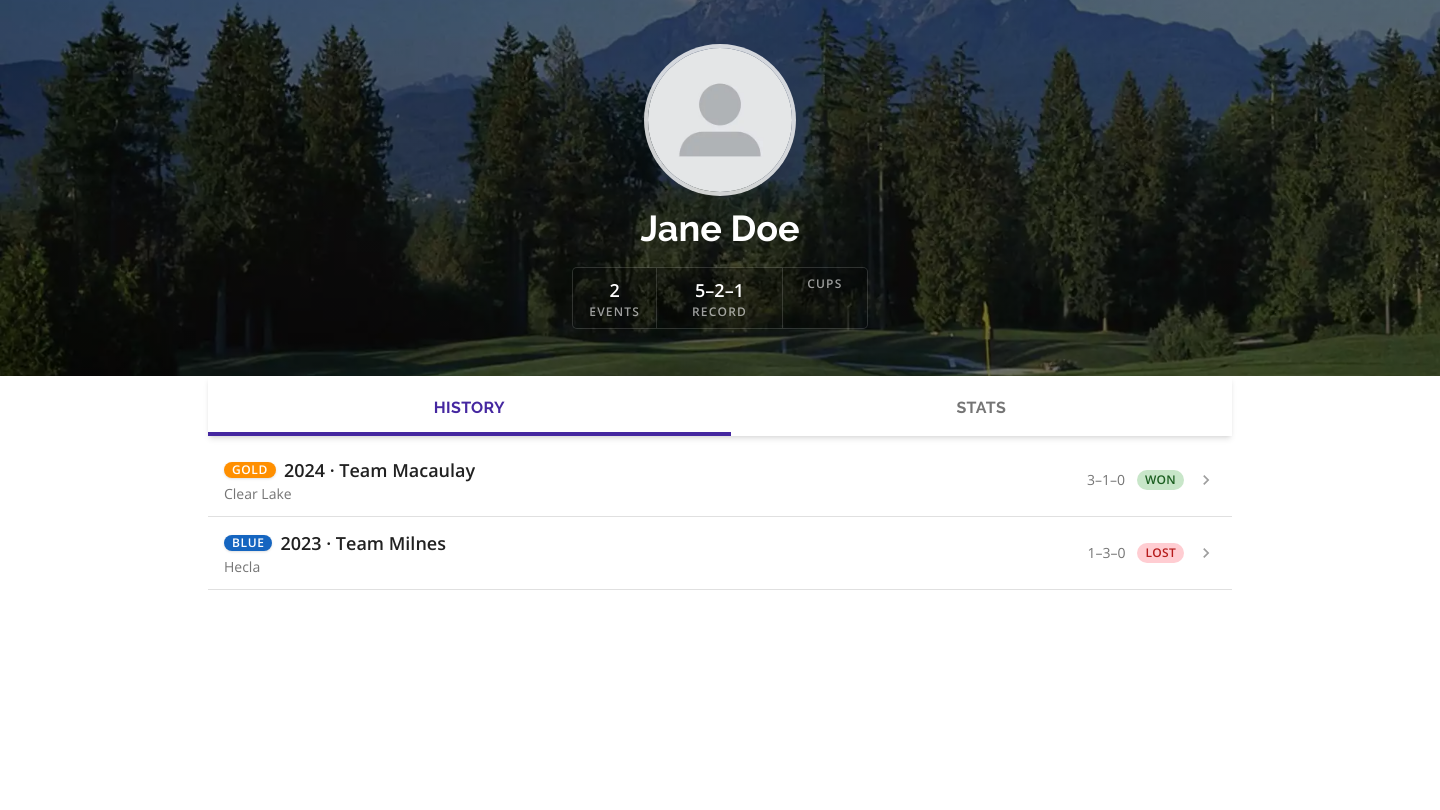
Test case: PlayerView › opens a cup in place, and only one at a time
Click the button "gold 2024 · Team Macaulay Clear Lake 3–1–0 Won": click(250, 470) [208, 444, 1232, 516]
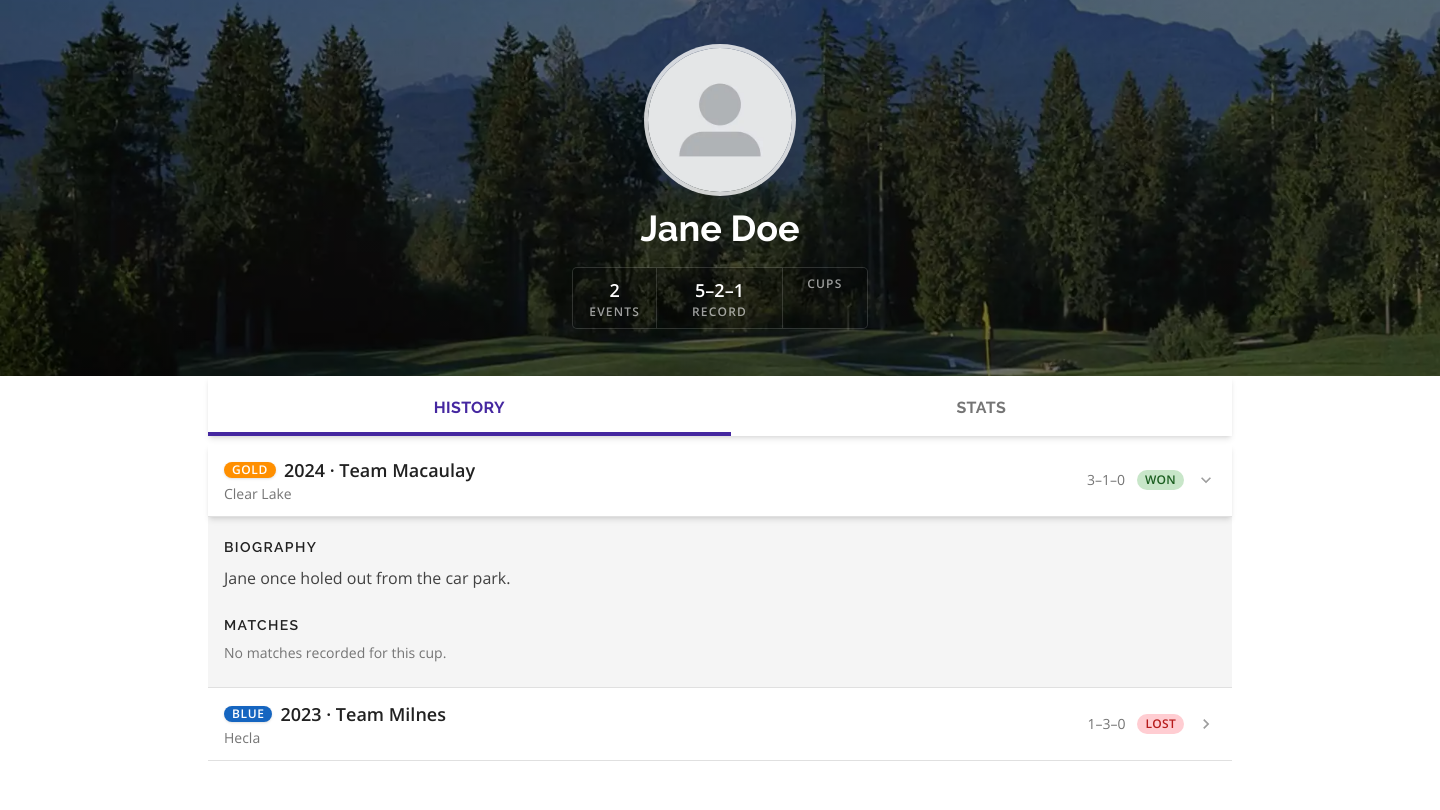
Now the button "gold 2024 · Team Macaulay Clear Lake 3–1–0 Won" is expanded, box [208, 444, 1232, 517]
Now the text "holed out from the car park" is shown, box [224, 567, 510, 589]
Click the button "blue 2023 · Team Milnes Hecla 1–3–0 Lost": click(248, 714) [208, 688, 1232, 760]
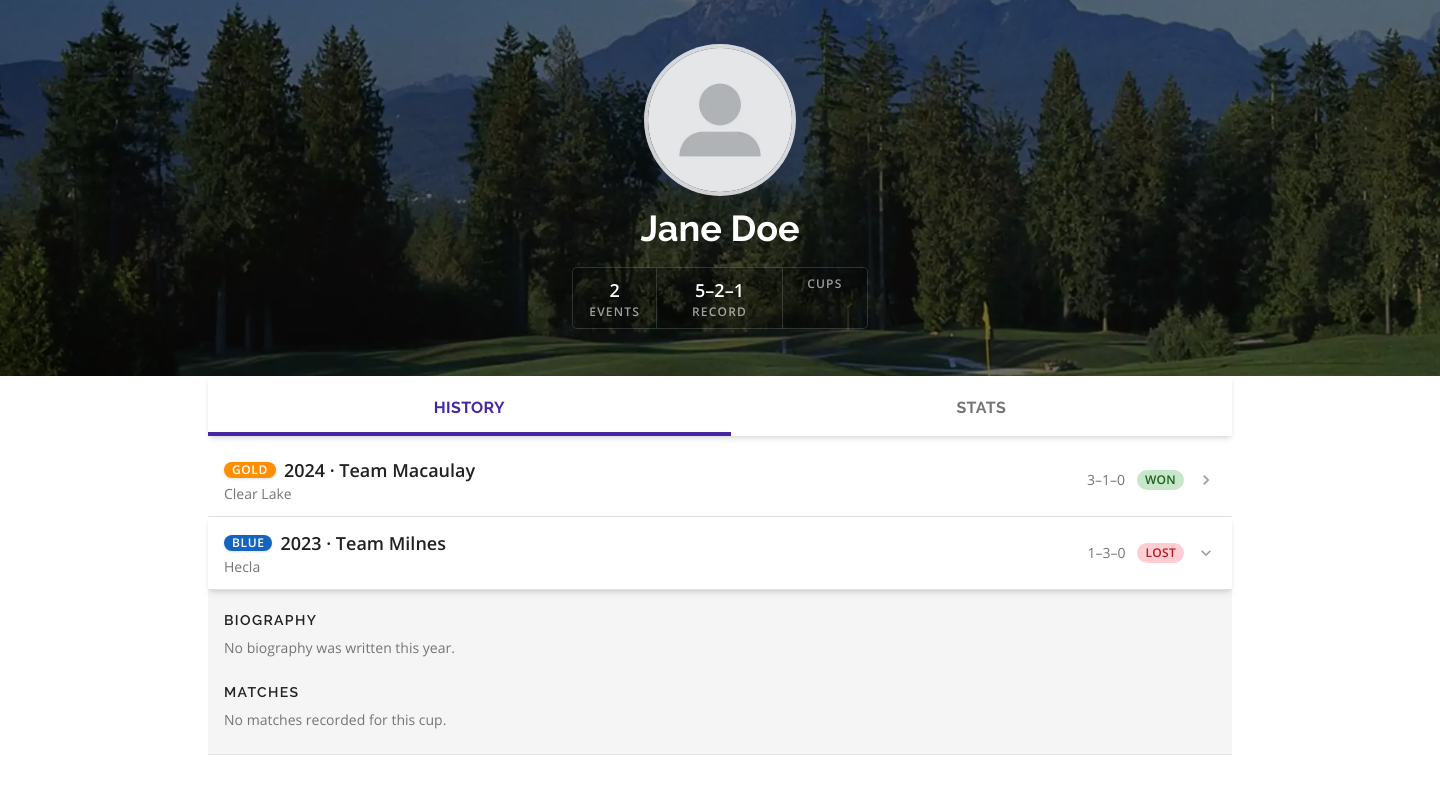
Now the text "holed out from the car park" is gone
Now the text "No biography was written this year." is shown, box [224, 638, 455, 657]
